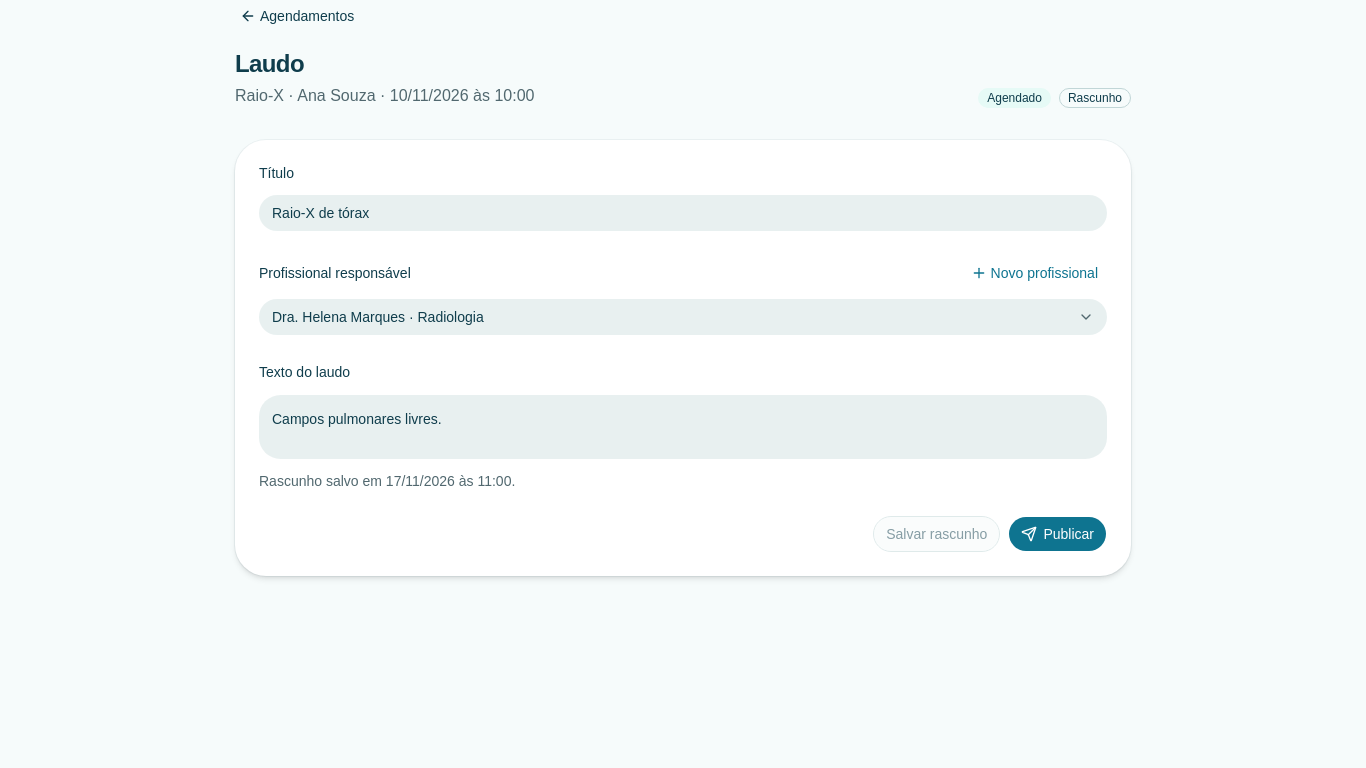
Test: ReportPage › saves unsaved edits before publishing them
Replace the text in the text box labelled "Texto do laudo" with "Texto revisado.  " at (683, 426), box [259,394,1107,458]
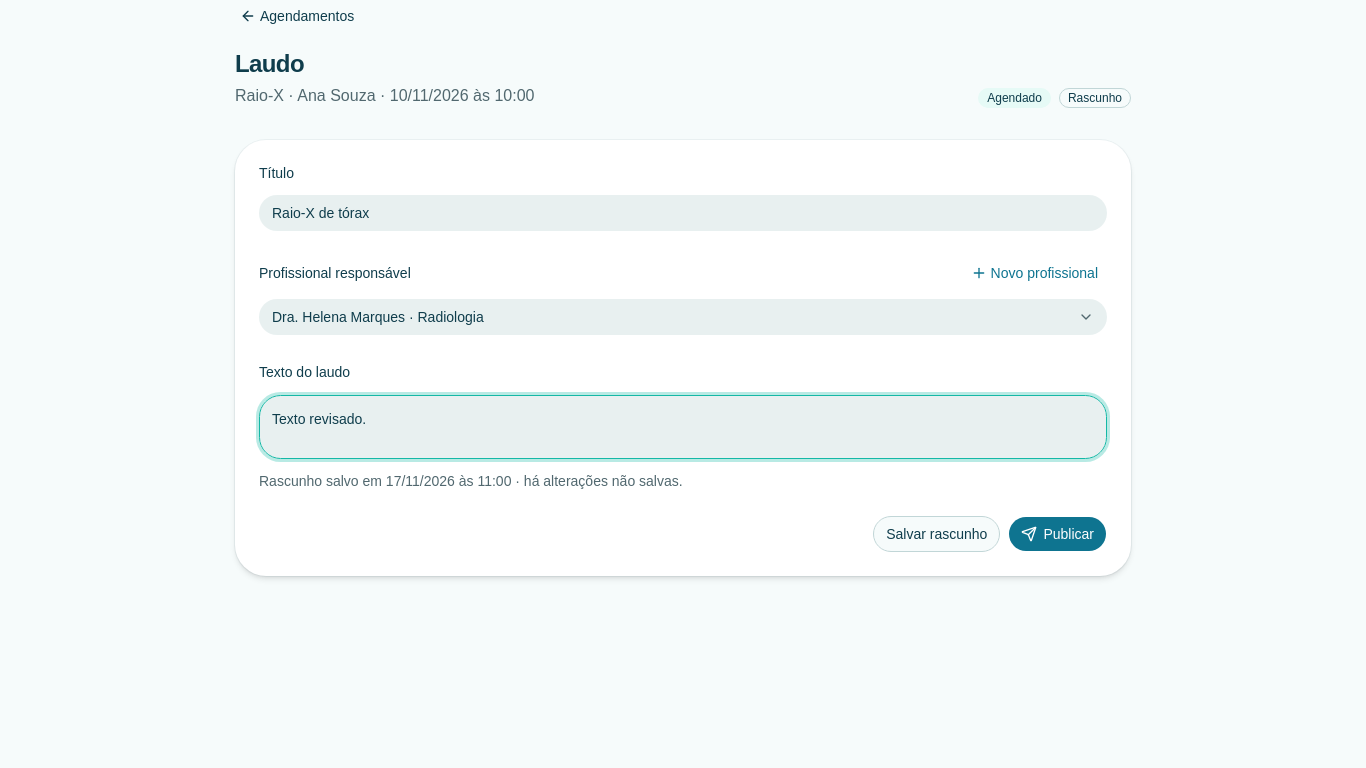
Click the button "Publicar" at (1058, 534), box [1008,516,1107,552]
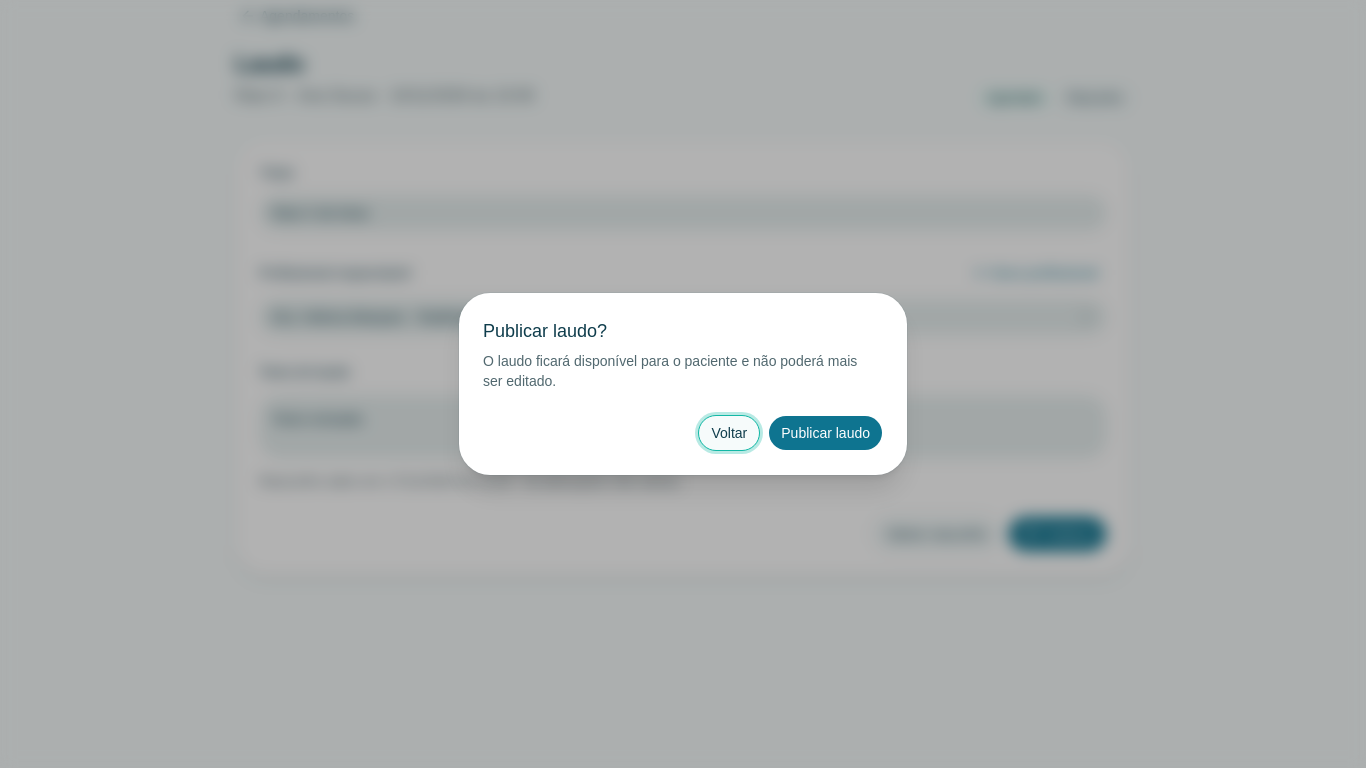
Click the button "Publicar laudo" at (826, 433), box [768,415,883,451]
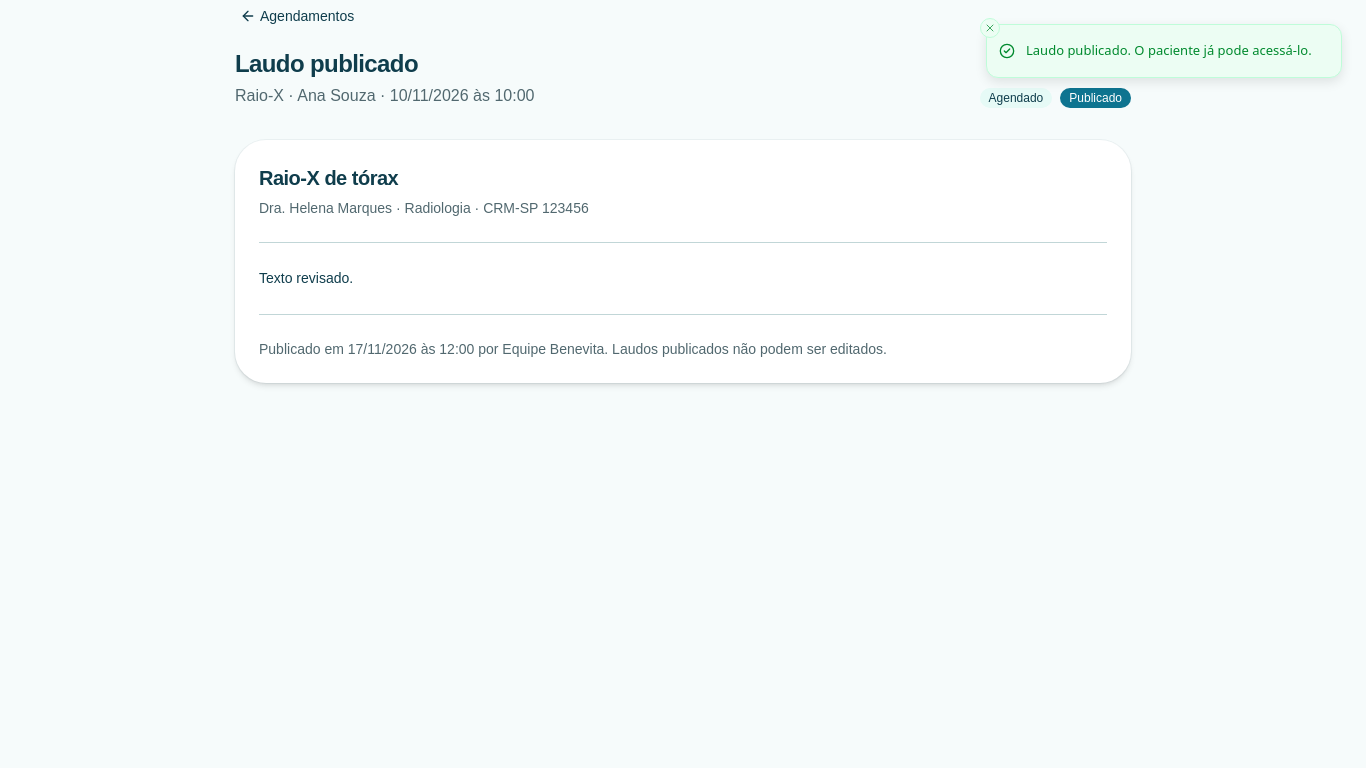
Now the heading "Laudo publicado" is shown, box [235,50,418,77]
